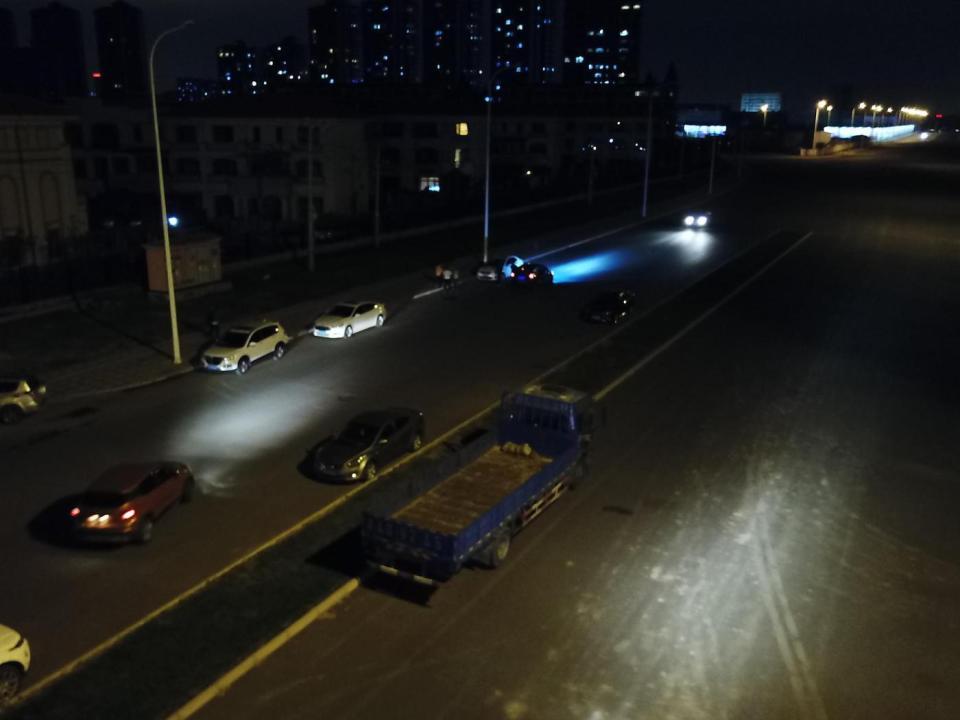car: (69, 459, 196, 545), (314, 406, 426, 483), (200, 318, 288, 376), (314, 300, 388, 340), (0, 370, 49, 426), (585, 289, 635, 326), (477, 254, 526, 282), (683, 201, 731, 228), (511, 263, 554, 289)
truck: (362, 380, 606, 590)
